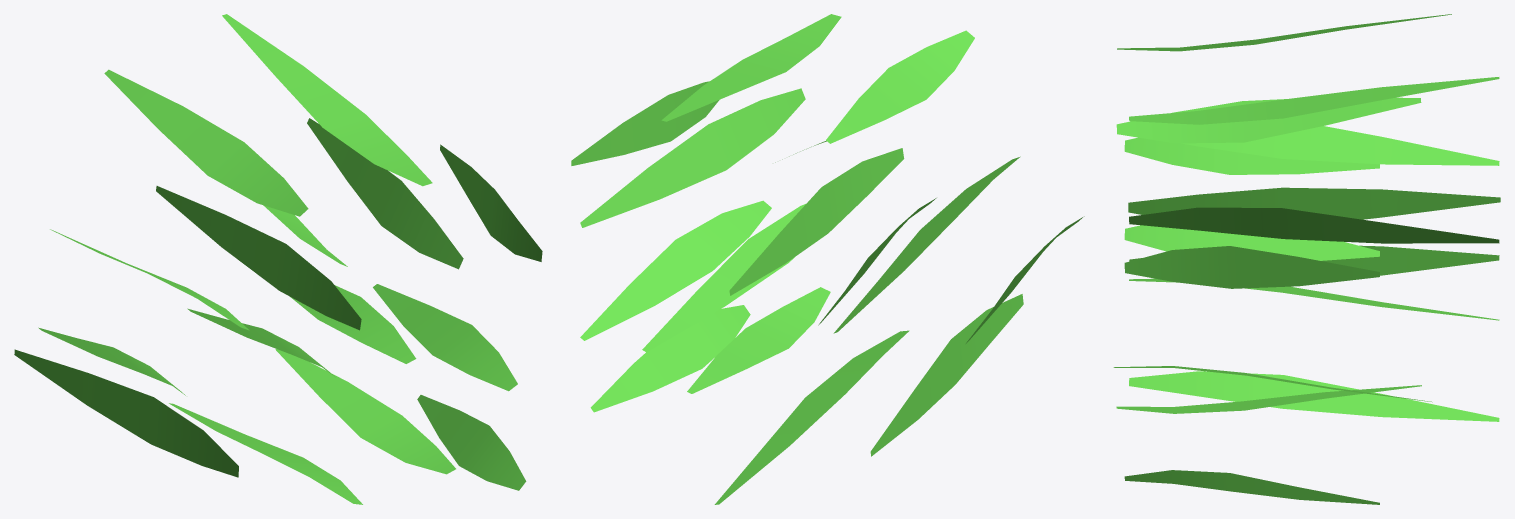
Rendered from Grass_002.fbx.
3 renders of one model, left to right at view 1: azimuth 30°, elevation 25°; view 2: azimuth 150°, elevation 25°; view 3: azimuth 270°, elevation 25°, orthographic. The views are drawn at different scales.
Visible parts, largest first — view 1: 平面.009; view 2: 平面.009; view 3: 平面.009.
Boxes of the visible parts, box(x1,y1,x2,y2) form: 平面.009: box(14, 14, 542, 504); 平面.009: box(571, 14, 1084, 504); 平面.009: box(1113, 14, 1500, 504).
Bounding box in the file's own units: 226 × 201 × 191.
